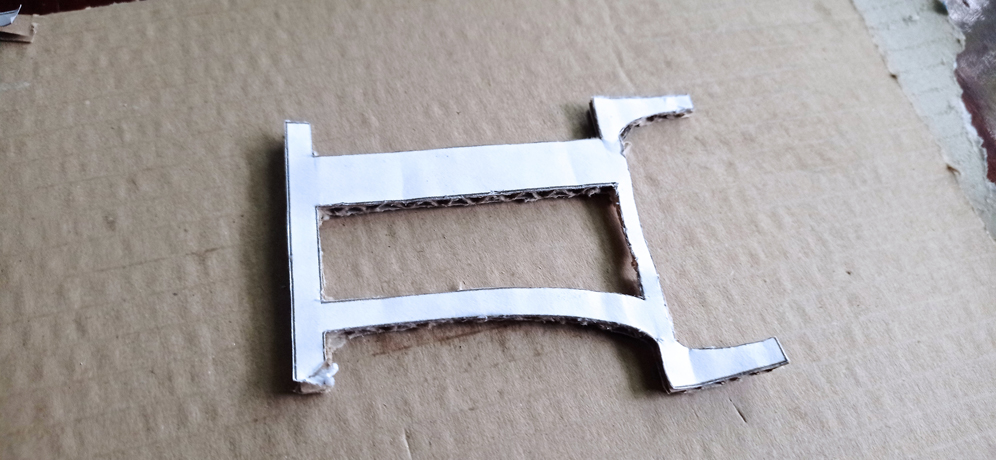d: (283, 94, 791, 397)
